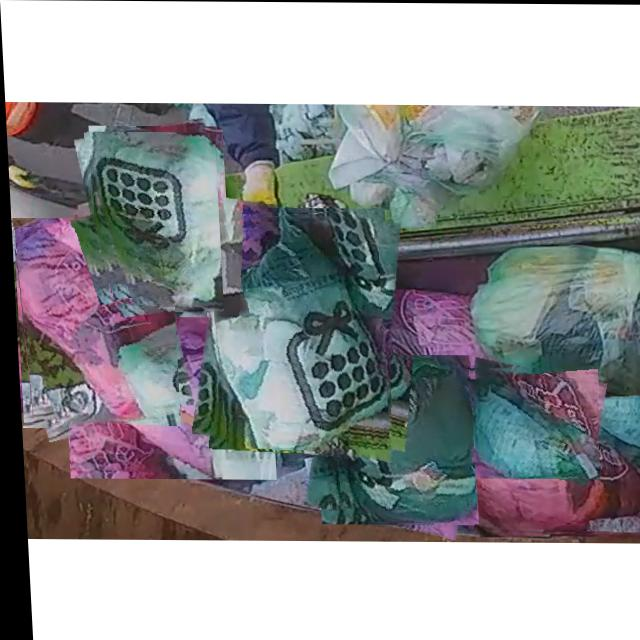general_trashbag: (211, 214, 382, 449), (321, 355, 470, 523), (87, 132, 217, 310), (469, 367, 594, 478)
other_trashbag: (62, 318, 264, 476), (11, 228, 171, 425), (464, 402, 640, 532)
